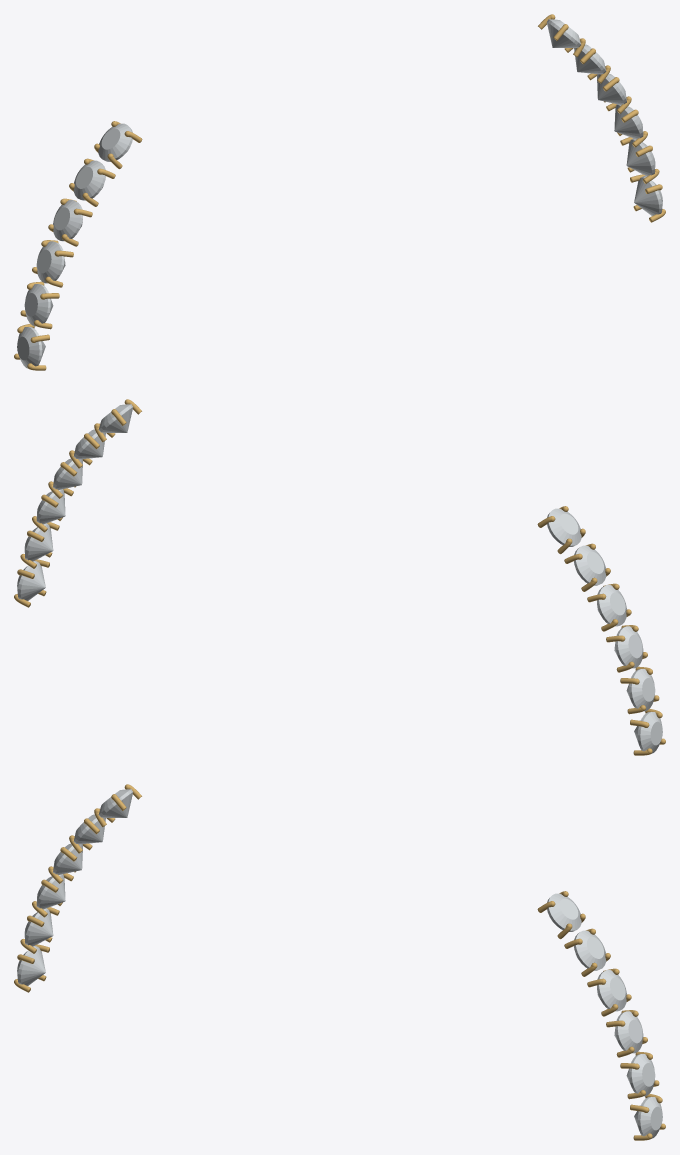
Rendered from accents-micro-pave-head.glb.
The picture shows the model from 3 angles, top to bottom: view 1: azimuth 30°, elevation 25°; view 2: azimuth 150°, elevation 25°; view 3: azimuth 330°, elevation 25°; orthographic projection.
Parts seen in each view (by area): view 1: Gem, Gem.001, Gem.002, Gem.003, Gem.004, Gem.005, Gem.011, Gem.010, Gem.009, Gem.006, Gem.008, Gem.007; view 2: Gem, Gem.001, Gem.002, Gem.003, Gem.004, Gem.005, Gem.011, Gem.010, Gem.009, Gem.006, Gem.008, Gem.007; view 3: Gem.006, Gem.007, Gem.008, Gem.009, Gem.010, Gem.011, Gem.005, Gem.004, Gem.003, Gem, Gem.002, Gem.001.
Part boxes in pixels (<box>): Gem: <box>98,123,132,161</box>; Gem.001: <box>73,160,105,200</box>; Gem.002: <box>53,200,82,241</box>; Gem.003: <box>36,241,65,283</box>; Gem.004: <box>24,284,53,326</box>; Gem.005: <box>17,327,45,368</box>; Gem.011: <box>634,176,662,215</box>; Gem.010: <box>626,138,655,176</box>; Gem.009: <box>614,104,643,139</box>; Gem.006: <box>547,19,581,47</box>; Gem.008: <box>597,73,626,104</box>; Gem.007: <box>574,44,606,74</box>; Gem: <box>547,508,581,546</box>; Gem.001: <box>574,545,606,585</box>; Gem.002: <box>597,585,626,626</box>; Gem.003: <box>614,626,643,668</box>; Gem.004: <box>626,669,655,711</box>; Gem.005: <box>634,712,662,753</box>; Gem.011: <box>17,561,45,600</box>; Gem.010: <box>24,523,53,561</box>; Gem.009: <box>36,489,65,524</box>; Gem.006: <box>98,404,132,432</box>; Gem.008: <box>53,458,82,489</box>; Gem.007: <box>73,429,105,459</box>; Gem.006: <box>547,893,581,931</box>; Gem.007: <box>574,930,606,970</box>; Gem.008: <box>597,970,626,1011</box>; Gem.009: <box>614,1011,643,1053</box>; Gem.010: <box>626,1054,655,1096</box>; Gem.011: <box>634,1097,662,1138</box>; Gem.005: <box>17,946,45,985</box>; Gem.004: <box>24,908,53,946</box>; Gem.003: <box>36,874,65,909</box>; Gem: <box>98,789,132,817</box>; Gem.002: <box>53,843,82,874</box>; Gem.001: <box>73,814,105,844</box>.
Bounding box in the file's own units: 19.79 × 6.47 × 1.15.
